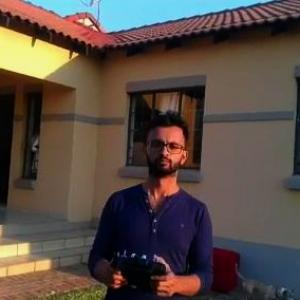follow: (80, 106, 220, 299)
null: (223, 262, 294, 299)
